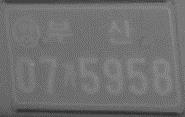0: (14, 55, 38, 95)
5: (77, 54, 101, 95), (126, 55, 148, 97)
7: (37, 54, 59, 97)
8: (150, 57, 174, 99)
9: (101, 57, 124, 94)
가: (59, 58, 78, 89)
부산_D: (44, 16, 135, 47)
영: (9, 15, 40, 49)
